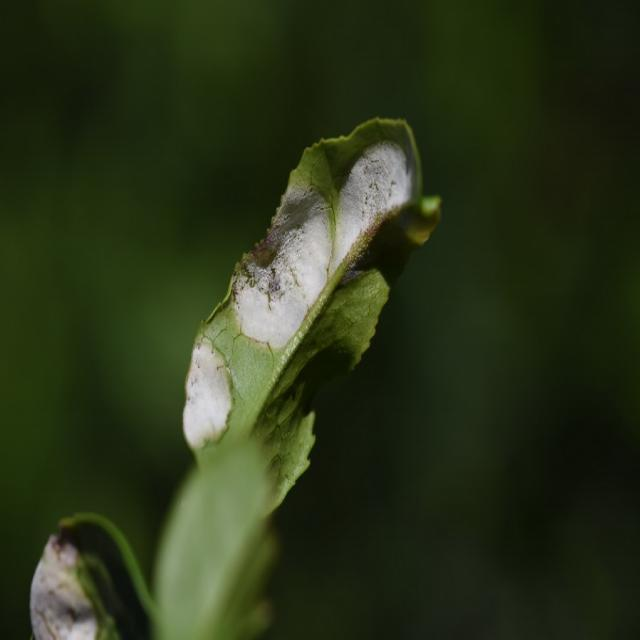Tea cake: (231, 190, 335, 342), (346, 118, 411, 240), (173, 344, 236, 441)
